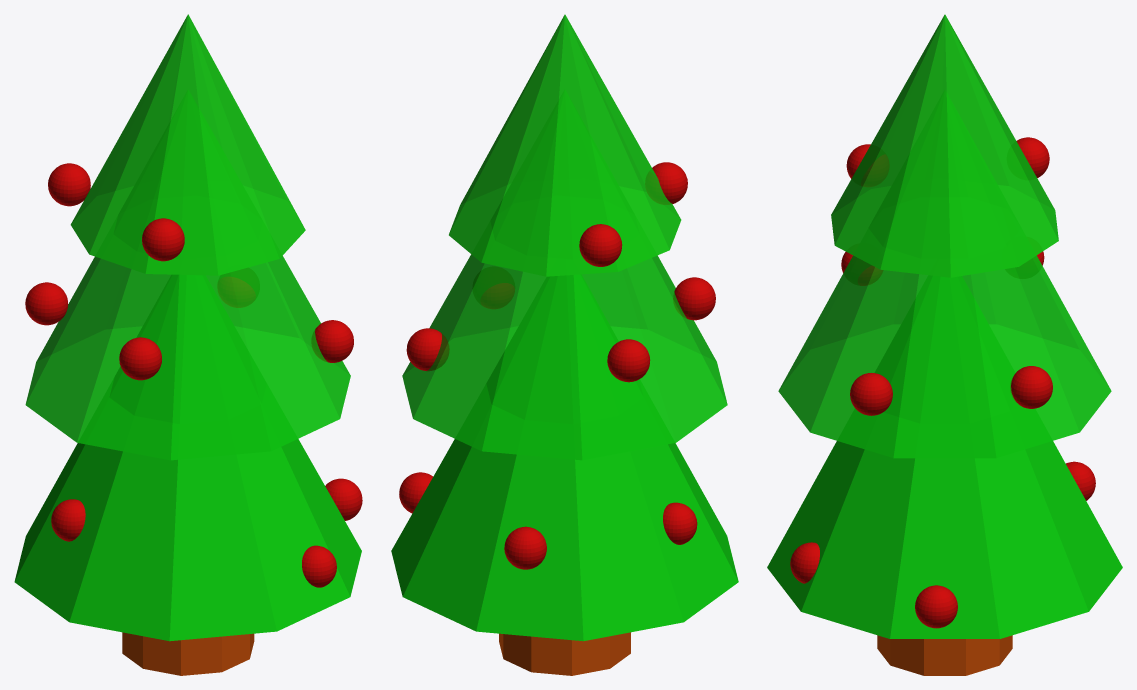
File: arbol.obj
The picture shows the model from 3 angles, left to right: view 1: azimuth 30°, elevation 25°; view 2: azimuth 150°, elevation 25°; view 3: azimuth 270°, elevation 25°; orthographic projection.
Parts seen in each view (by area): view 1: Cono.002, Cono, Cono.001, Cilindro, Esfera.002, Esfera, Esfera.001, Esfera.004, Esfera.003; view 2: Cono.002, Cono, Cono.001, Cilindro, Esfera.002, Esfera, Esfera.003, Esfera.001, Esfera.004; view 3: Cono.002, Cono, Cono.001, Cilindro, Esfera.001, Esfera.004, Esfera, Esfera.003, Esfera.002.
Part boxes in pixels (<box>): Cono.002: <box>14,275,361,641</box>; Cono: <box>25,90,350,460</box>; Cono.001: <box>70,14,305,275</box>; Cilindro: <box>122,632,254,675</box>; Esfera.002: <box>25,282,161,380</box>; Esfera: <box>48,163,184,261</box>; Esfera.001: <box>217,277,353,362</box>; Esfera.004: <box>302,478,362,587</box>; Esfera.003: <box>51,499,85,541</box>; Cono.002: <box>391,274,738,641</box>; Cono: <box>402,90,727,460</box>; Cono.001: <box>449,14,681,276</box>; Cilindro: <box>499,632,630,675</box>; Esfera.002: <box>607,277,715,382</box>; Esfera: <box>579,162,687,266</box>; Esfera.003: <box>504,502,697,569</box>; Esfera.001: <box>406,283,514,370</box>; Esfera.004: <box>399,472,432,513</box>; Cono.002: <box>767,275,1122,638</box>; Cono: <box>778,91,1111,458</box>; Cono.001: <box>831,14,1058,277</box>; Cilindro: <box>877,635,1012,675</box>; Esfera.001: <box>850,366,1052,415</box>; Esfera.004: <box>790,542,957,628</box>; Esfera: <box>846,137,1049,186</box>; Esfera.003: <box>1066,461,1095,500</box>; Esfera.002: <box>841,251,1044,285</box>.
Bounding box in the file's own units: 2.18 × 4.2 × 2.14.
